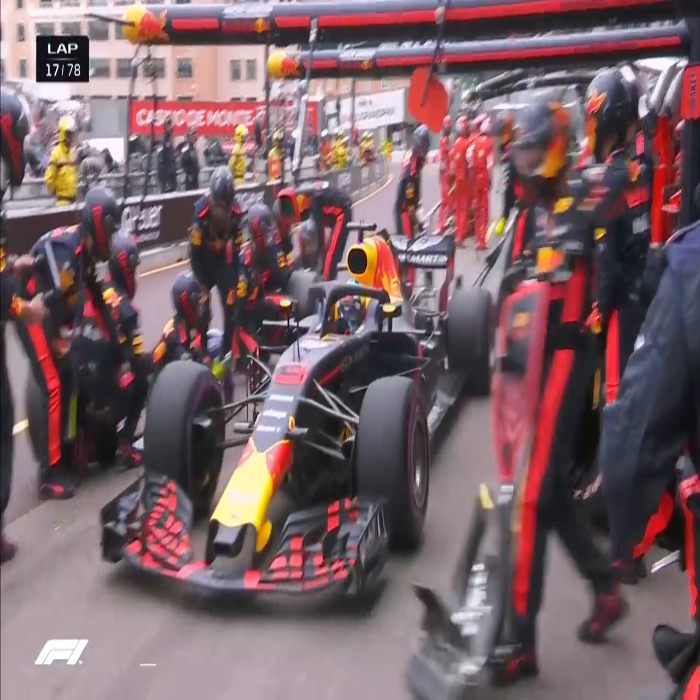f1_car: (100, 214, 527, 616)
